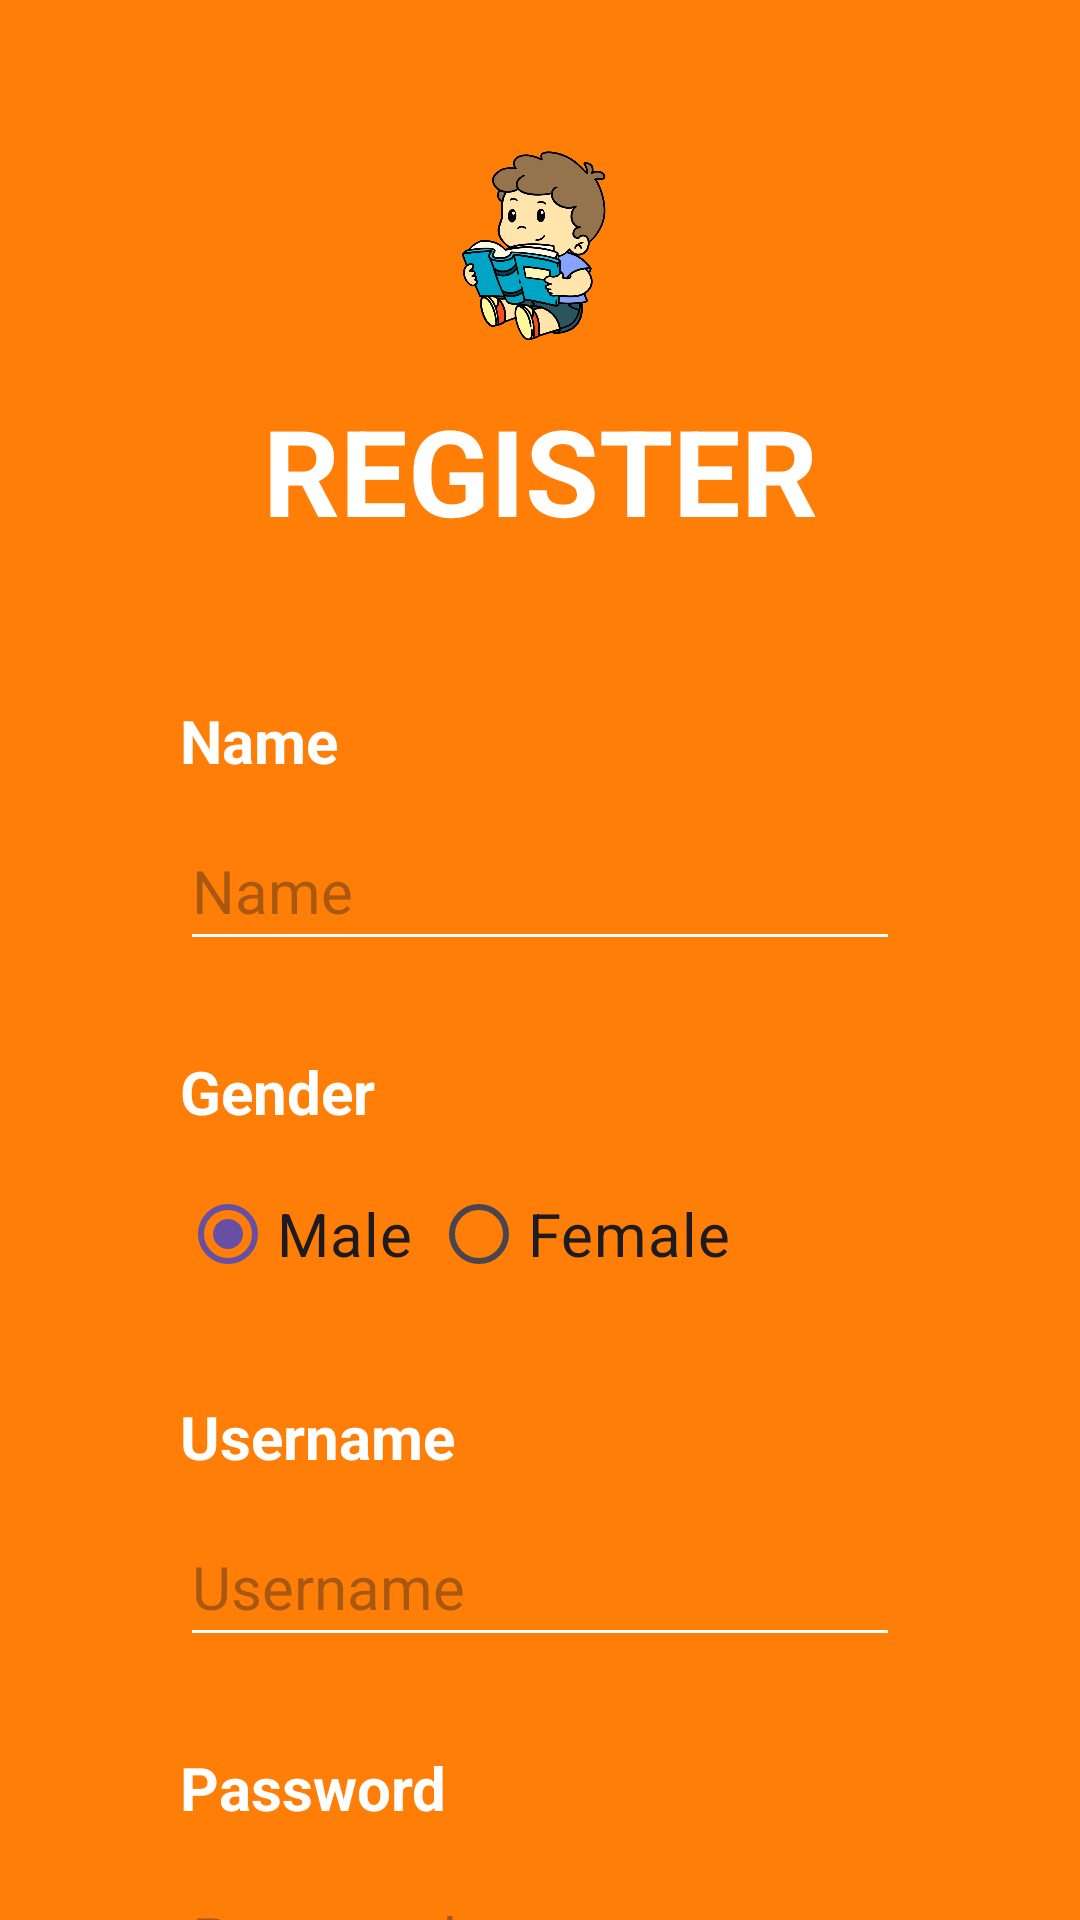

Where icons sit on this 1080px x 1920px app screen, as (x1, y1, x2, y2):
read kid: (462, 151, 606, 340)
